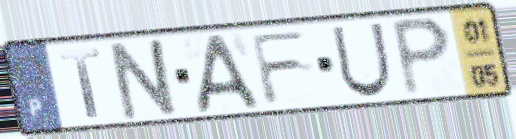A: (194, 31, 264, 116)
F: (247, 27, 312, 108)
N: (107, 35, 182, 123)
P: (387, 14, 455, 100)
T: (57, 46, 104, 120)
U: (329, 20, 395, 100)
